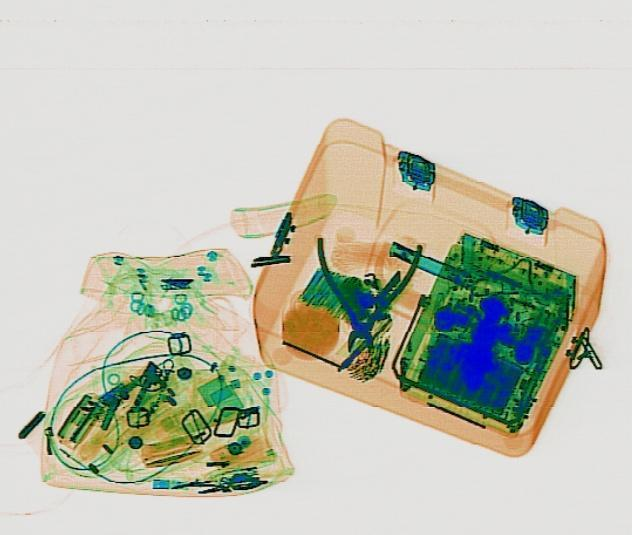Pliers: (305, 233, 421, 354)
